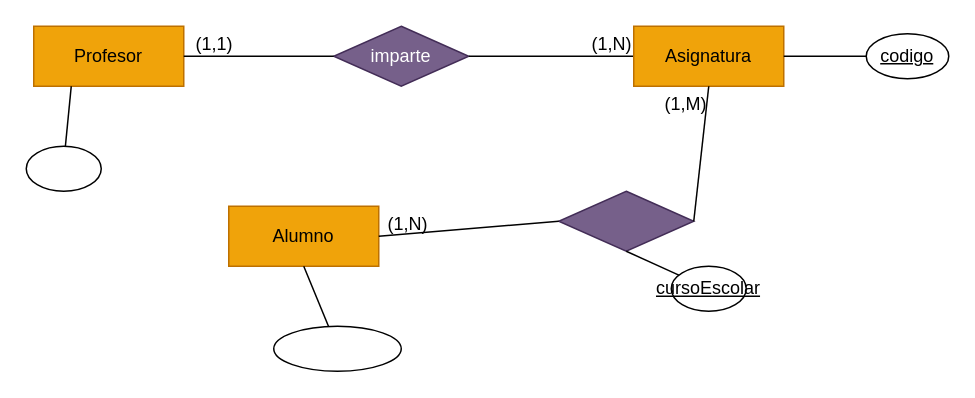
The diagram is 975 pixels wide and 398 high, and some of its shapes have lost their labels. The shapes that lost their labels are listed below. From the top down, each one's centre as x and y in pixels, then its label:
At point (63, 168): "DNI".
At point (625, 220): "matriculado".
At point (336, 348): "NMatricula".
